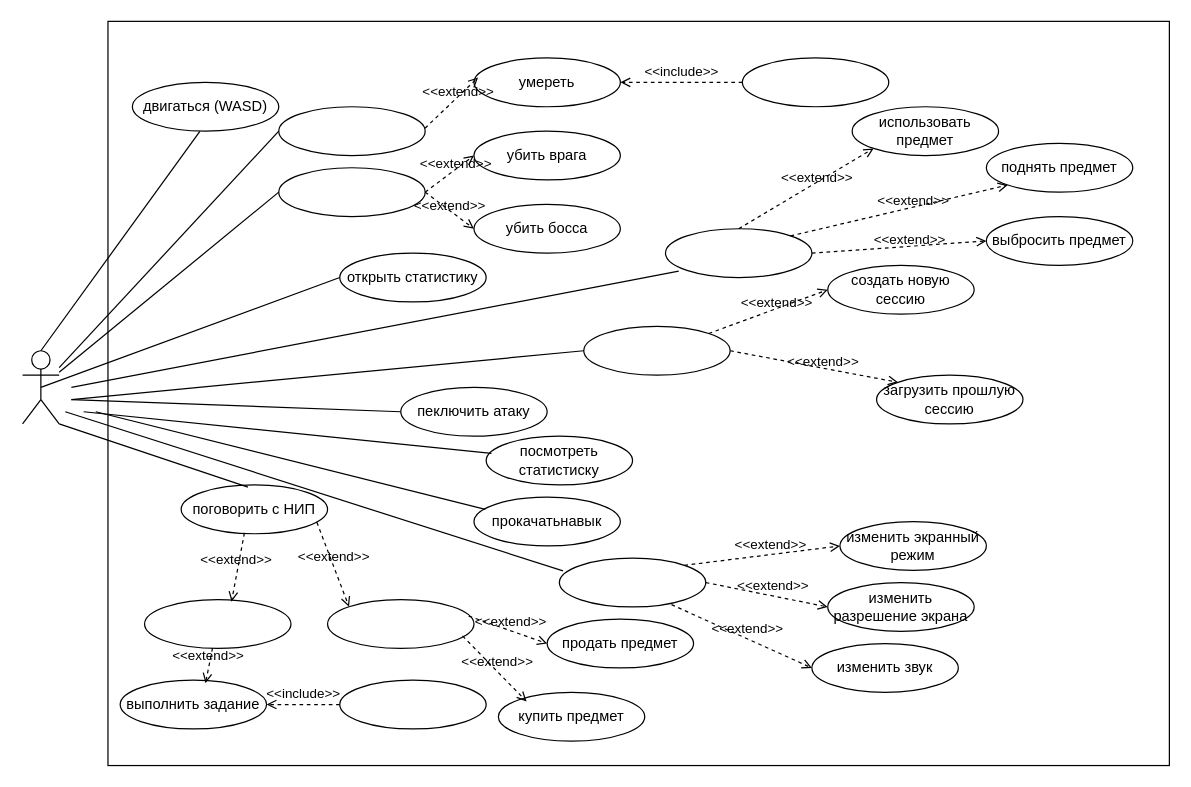
Image size: 1191x787. Some labels were removed from this diagram. The shapes that lost their labels are listed below. From the top down, each one's box as (x1, y1, x2, y2) in pixels, then its label:
(741, 57, 889, 107): возродиться
(278, 106, 425, 156): получить урон
(278, 167, 425, 217): нанести урон
(664, 228, 812, 278): взаимодействовать с инвентарем
(583, 325, 730, 375): взаимодействовать с сохранениями
(21, 350, 59, 424): Игрок
(558, 557, 706, 607): взаимодействовать с настройками
(143, 598, 291, 648): взять задание
(326, 598, 474, 648): торговать
(339, 679, 486, 729): получить награду
